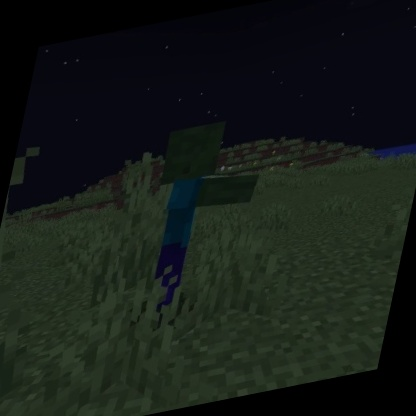zombie: (121, 104, 278, 337)
